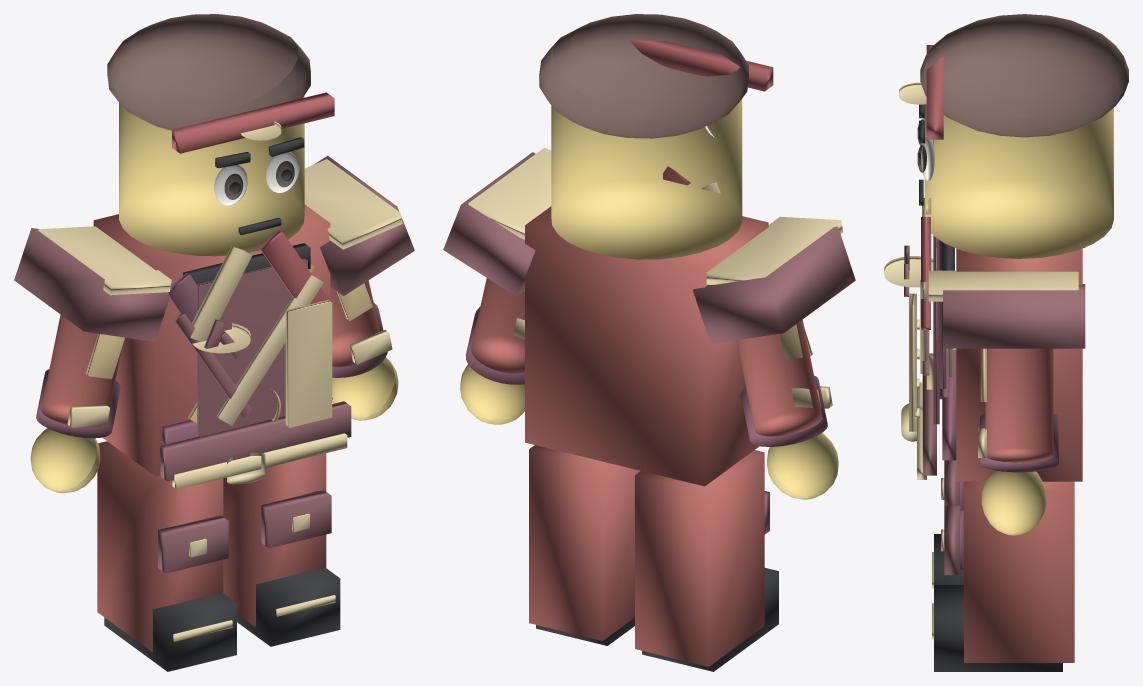
The model's file is master-chen.glb.
The picture shows the model from 3 angles, left to right: view 1: azimuth 30°, elevation 25°; view 2: azimuth 150°, elevation 25°; view 3: azimuth 270°, elevation 25°; orthographic projection. The views are drawn at different scales.
Visible parts, largest first — view 1: hairCap, headCore, leftLegBody, torsoBody, rightLegBody, remasterKimonoUnderlayer, remasterShoulderPlate-1, remasterCeremonialPanel, remasterWaistWrap, leftBoot, rightBoot, remasterShoulderEdge1 (+26 smaller); view 2: torsoBody, leftLegBody, headCore, rightLegBody, hairCap, remasterShoulderPlate-1, leftArmBody, remasterShoulderPlate1, remasterShoulderEdge-1, remasterShoulderEdge1, rightArmBody, leftHandAuthored (+7 smaller); view 3: headCore, hairCap, rightLegBody, torsoBody, remasterShoulderPlate1, rightArmBody, rightHandAuthored, rightBoot, remasterShoulderEdge1, remasterTempleBand, remasterWaistWrap, torsoBelt (+15 smaller).
Part boxes in pixels (x1=…): hairCap: x1=107, y1=14, x2=310, y2=130; headCore: x1=119, y1=96, x2=304, y2=256; leftLegBody: x1=97, y1=441, x2=223, y2=651; torsoBody: x1=93, y1=204, x2=330, y2=476; rightLegBody: x1=223, y1=453, x2=326, y2=626; remasterKimonoUnderlayer: x1=197, y1=258, x2=307, y2=436; remasterShoulderPlate-1: x1=14, y1=228, x2=171, y2=341; remasterCeremonialPanel: x1=285, y1=300, x2=332, y2=427; remasterWaistWrap: x1=160, y1=401, x2=351, y2=481; leftBoot: x1=104, y1=592, x2=236, y2=671; rightBoot: x1=237, y1=567, x2=340, y2=646; remasterShoulderEdge1: x1=304, y1=159, x2=402, y2=249; torsoBody: x1=525, y1=206, x2=768, y2=486; leftLegBody: x1=635, y1=450, x2=764, y2=666; headCore: x1=551, y1=99, x2=742, y2=259; rightLegBody: x1=529, y1=445, x2=640, y2=640; hairCap: x1=539, y1=14, x2=748, y2=138; remasterShoulderPlate-1: x1=693, y1=226, x2=855, y2=343; leftArmBody: x1=736, y1=320, x2=822, y2=436; remasterShoulderPlate1: x1=443, y1=152, x2=535, y2=296; remasterShoulderEdge-1: x1=706, y1=216, x2=843, y2=284; remasterShoulderEdge1: x1=468, y1=147, x2=551, y2=239; rightArmBody: x1=471, y1=278, x2=524, y2=373; leftHandAuthored: x1=767, y1=433, x2=838, y2=499; headCore: x1=924, y1=104, x2=1113, y2=258; hairCap: x1=920, y1=14, x2=1128, y2=137; rightLegBody: x1=964, y1=481, x2=1074, y2=662; torsoBody: x1=956, y1=248, x2=1082, y2=481; remasterShoulderPlate1: x1=943, y1=284, x2=1085, y2=348; rightArmBody: x1=985, y1=348, x2=1053, y2=462; rightHandAuthored: x1=981, y1=462, x2=1046, y2=535; rightBoot: x1=934, y1=585, x2=1062, y2=671; remasterShoulderEdge1: x1=928, y1=270, x2=1078, y2=301; remasterTempleBand: x1=926, y1=45, x2=943, y2=139; remasterWaistWrap: x1=922, y1=353, x2=936, y2=475; torsoBelt: x1=942, y1=349, x2=956, y2=460.
Size of the model in its own units: 1.61 by 2.5 by 0.9299.
